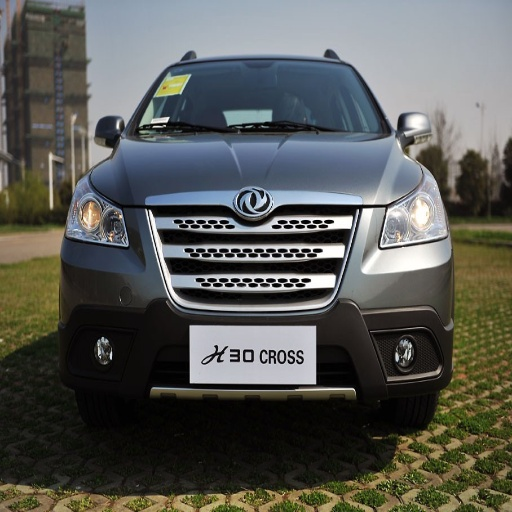front_bumper: (61, 192, 453, 403)
front_right_light: (67, 178, 132, 248)
hood: (92, 132, 423, 206)
